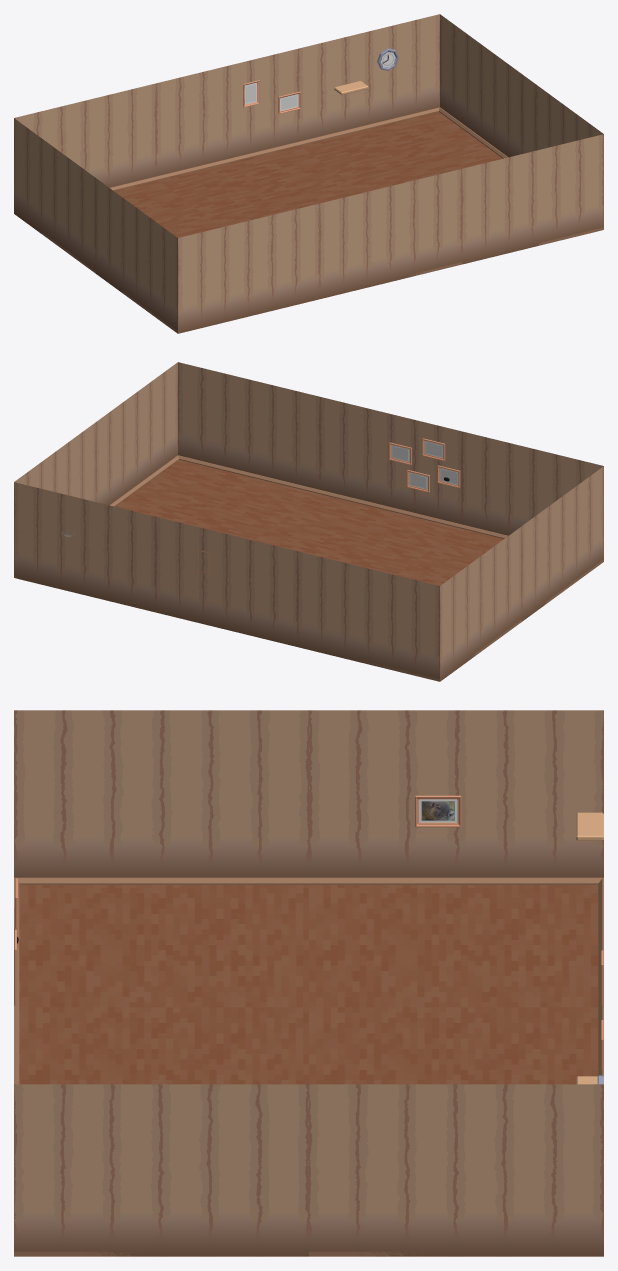
Rendered from house_v4.fbx.
3 views of the same model, one above another, from view 1: azimuth 30°, elevation 25°; view 2: azimuth 150°, elevation 25°; view 3: azimuth 270°, elevation 25° (orthographic). The views are drawn at different scales.
Visible parts, largest first — view 1: Wall.007, Wall.004, Wall.006, Wall.010, Wall.002, Flooring.002, Wall.005, Flooring.005, Wall.009, Wall.008, Wall.001, Wall.003 (+3 smaller); view 2: Wall.002, Wall.010, Wall.005, Wall.006, Wall.004, Flooring.003, Wall.007, Flooring.006, Wall.009, Wall.008, Wall.003, Wall.001 (+3 smaller); view 3: Wall.001, Wall.003, Wall.008, Wall.009, Flooring.001, Flooring.004, Flooring.003, Flooring.002, kuszob.009, kuszob.008, polc.001, Picture_frame.006.
Part boxes in pixels (x1,y1,x2,y2): Wall.007: (178, 203, 319, 333); Wall.004: (320, 169, 461, 298); Wall.006: (462, 134, 603, 264); Wall.010: (298, 14, 439, 141); Wall.002: (156, 49, 297, 176); Flooring.002: (158, 145, 363, 227); Wall.005: (14, 83, 155, 187); Flooring.005: (300, 111, 502, 192); Wall.009: (14, 118, 95, 270); Wall.008: (96, 178, 177, 330); Wall.001: (440, 14, 521, 157); Wall.003: (522, 74, 603, 153); Wall.002: (156, 517, 297, 646); Wall.010: (14, 482, 155, 612); Wall.005: (298, 551, 439, 679); Wall.006: (178, 362, 319, 489); Wall.004: (320, 397, 461, 524); Flooring.003: (254, 493, 459, 575); Wall.007: (462, 431, 603, 535); Flooring.006: (115, 459, 317, 540); Wall.009: (440, 526, 521, 681); Wall.008: (522, 466, 603, 621); Wall.003: (96, 362, 177, 505); Wall.001: (14, 422, 95, 501); Wall.001: (309, 1084, 603, 1256); Wall.003: (14, 1084, 308, 1256); Wall.008: (14, 710, 308, 877); Wall.009: (309, 710, 603, 877); Flooring.001: (19, 885, 308, 1007); Flooring.004: (309, 885, 598, 1007); Flooring.003: (19, 1007, 308, 1084); Flooring.002: (309, 1007, 598, 1084); kuszob.009: (309, 877, 603, 884); kuszob.008: (14, 877, 308, 884); polc.001: (576, 812, 603, 840); Picture_frame.006: (415, 795, 461, 827).
Bounding box in the file's own units: 910 × 196 × 607.
